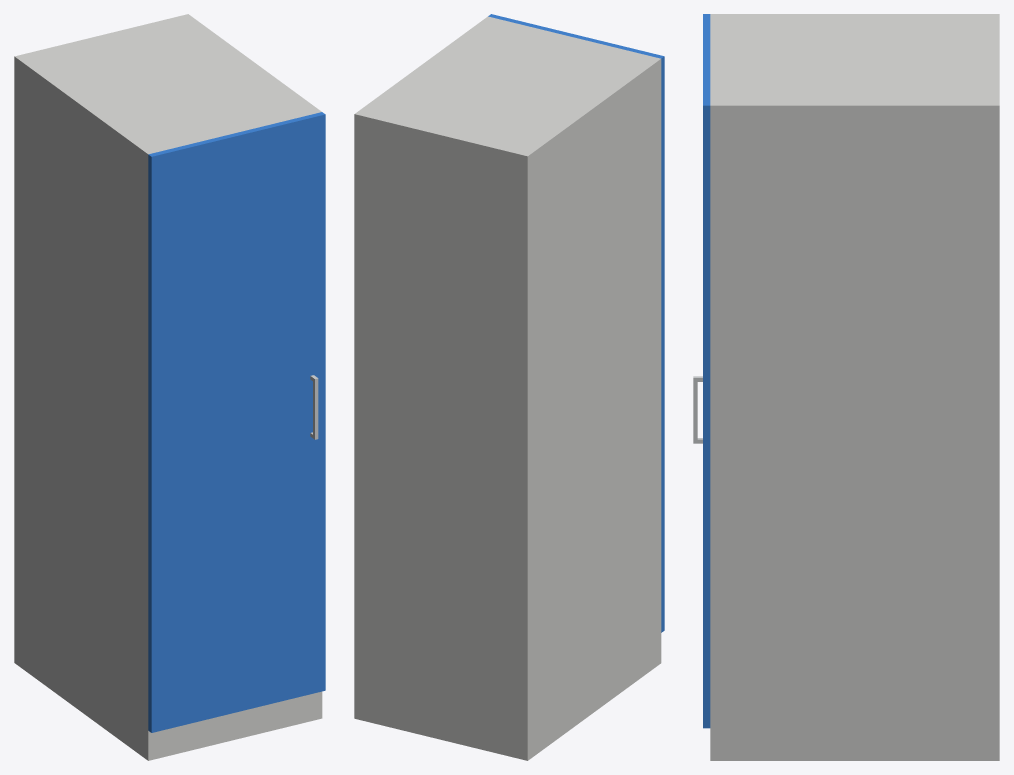
Rendered from rack-19in.glb.
3 views of the same model, side by side, from view 1: azimuth 30°, elevation 25°; view 2: azimuth 150°, elevation 25°; view 3: azimuth 270°, elevation 25° (orthographic). The views are drawn at different scales.
Parts seen in each view (by area): view 1: body, door-front; view 2: body, door-front; view 3: body, door-front.
Part boxes in pixels (x1,y1,x2,y2): body: (14, 14, 322, 760); door-front: (148, 112, 325, 732); body: (354, 16, 661, 760); door-front: (488, 14, 664, 632); body: (710, 14, 999, 760); door-front: (693, 14, 710, 728).
Size of what is drawn, in the model's own units: 0.6 by 2 by 0.847.
